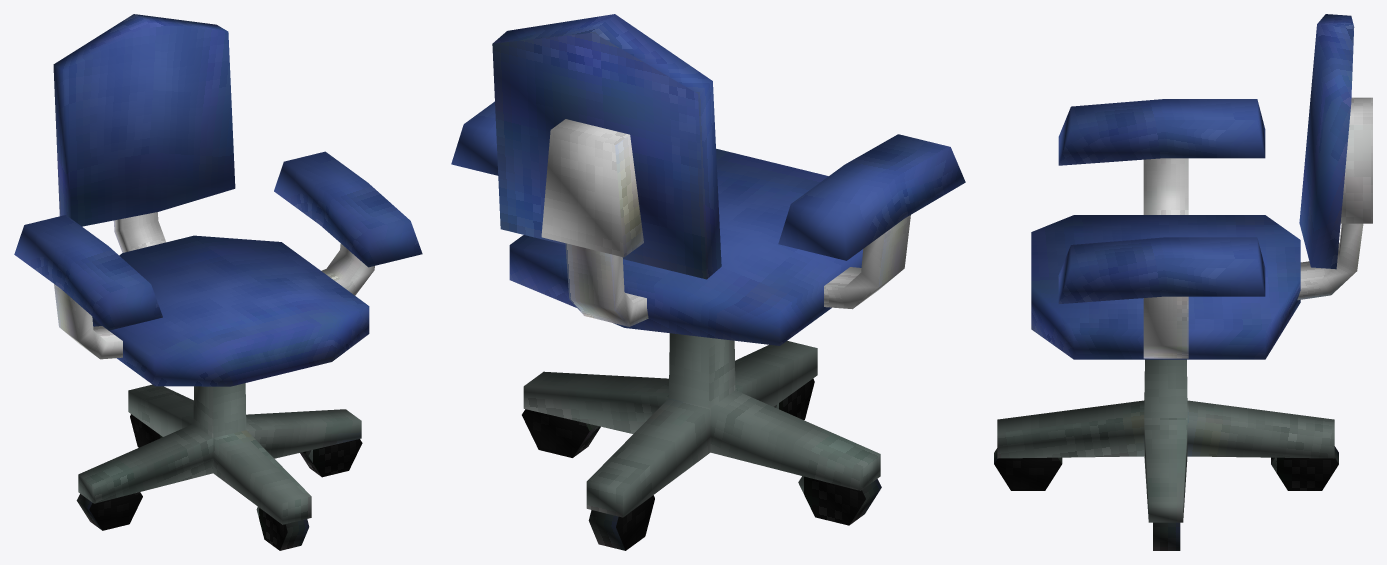
The model's file is OfficeChair.glb.
3 views of the same model, side by side, from view 1: azimuth 30°, elevation 25°; view 2: azimuth 150°, elevation 25°; view 3: azimuth 270°, elevation 25° (orthographic). The views are drawn at different scales.
Visible parts, largest first — view 1: OfficeChairSeat, OfficeChairBack, OfficeChairWheels; view 2: OfficeChairBack, OfficeChairSeat, OfficeChairWheels; view 3: OfficeChairSeat, OfficeChairWheels, OfficeChairBack.
Part boxes in pixels (left/top/right/bottom): OfficeChairSeat: left=14, top=151, right=422, bottom=386; OfficeChairBack: left=53, top=14, right=235, bottom=252; OfficeChairWheels: left=76, top=383, right=362, bottom=550; OfficeChairBack: left=492, top=14, right=721, bottom=326; OfficeChairSeat: left=451, top=101, right=965, bottom=345; OfficeChairWheels: left=522, top=333, right=881, bottom=550; OfficeChairSeat: left=1031, top=99, right=1300, bottom=359; OfficeChairWheels: left=994, top=359, right=1338, bottom=550; OfficeChairBack: left=1297, top=14, right=1372, bottom=300.
Size of what is drawn, in the model's own units: 0.9822 by 1.26 by 0.9392.
Materials: 1 (1 with a texture image).
